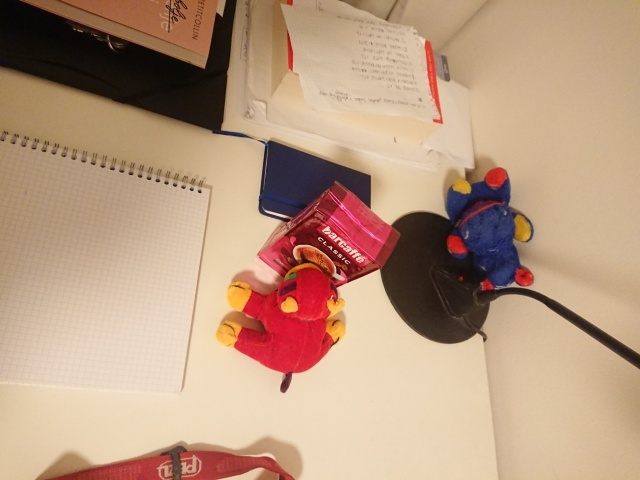Barcaffe Classic Original 225g: (254, 178, 404, 296)
